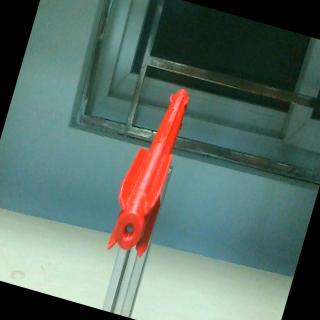Rocket: (102, 76, 194, 262)
